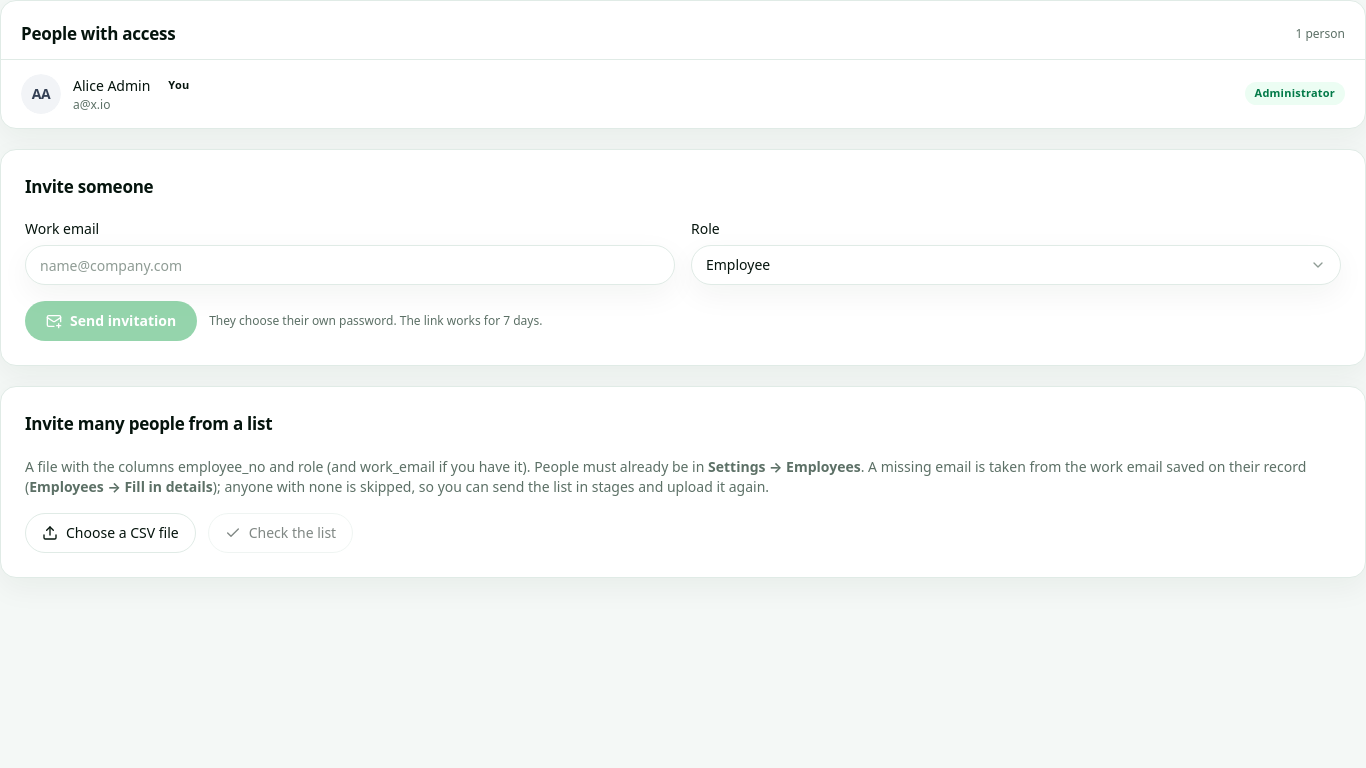
Test: AccessManager › inviting sends the email and role, clears the form and refreshes
This screenshot has width=1366, height=768.
Type "aud@x.io" into the field with placeholder "name@company.com" at (350, 265), box [25, 245, 675, 285]
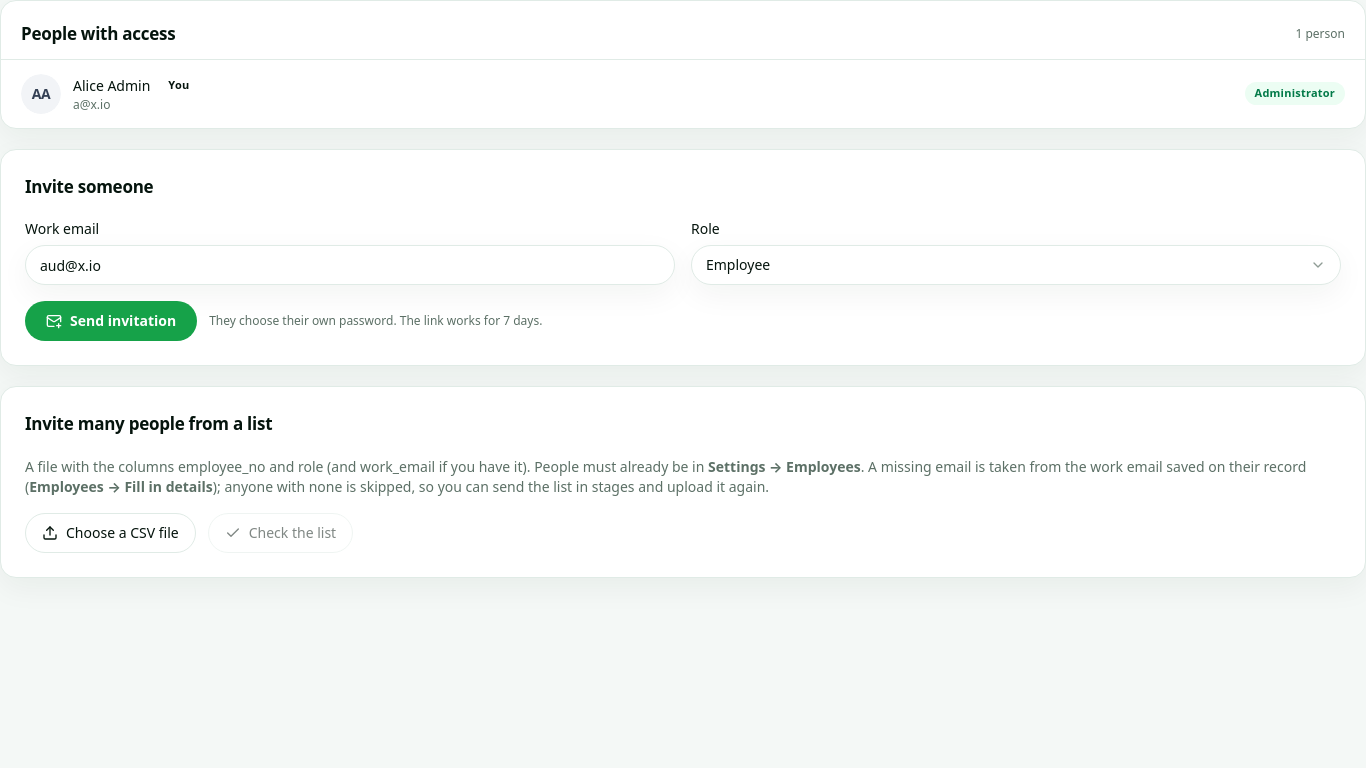
Click the button "Send invitation" at (111, 321), box [25, 301, 197, 341]
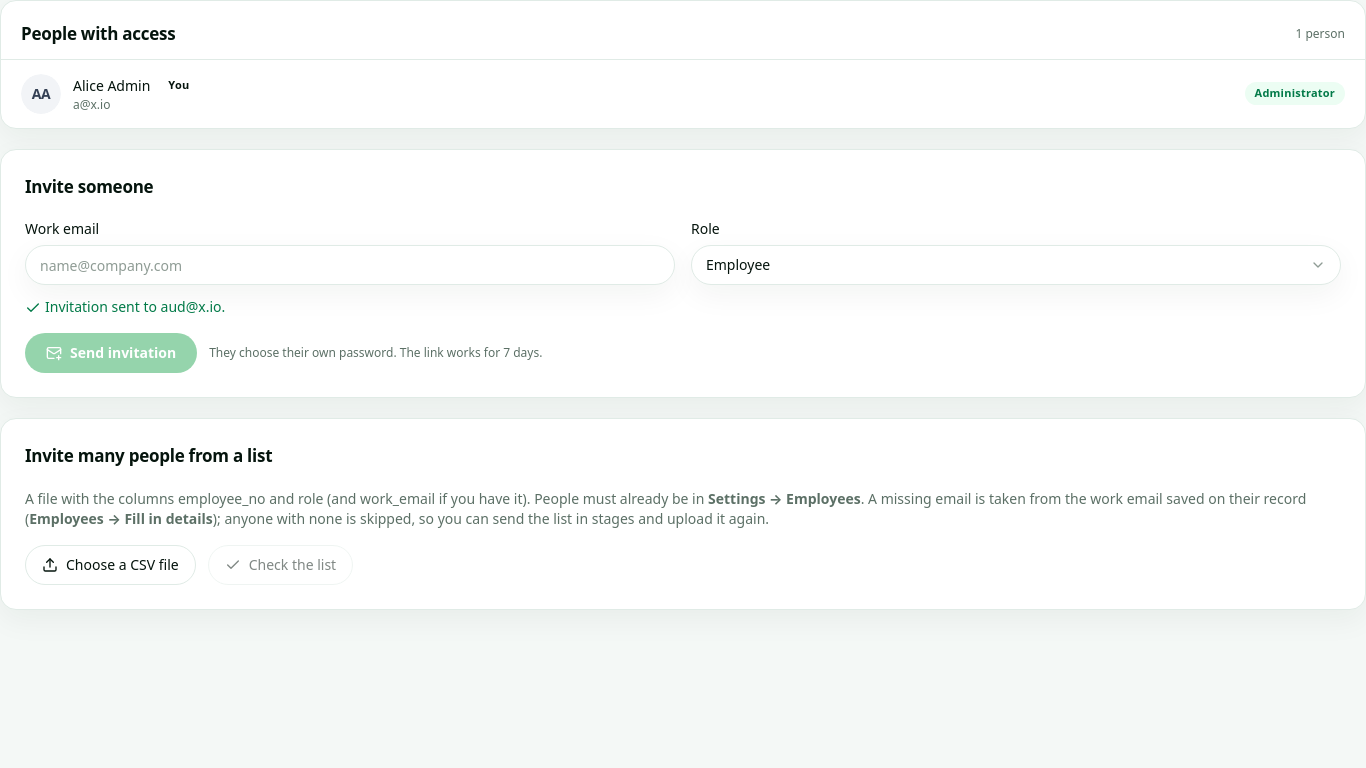
expect the text "Invitation sent to aud@x.io." is shown: met, box [25, 297, 225, 316]
